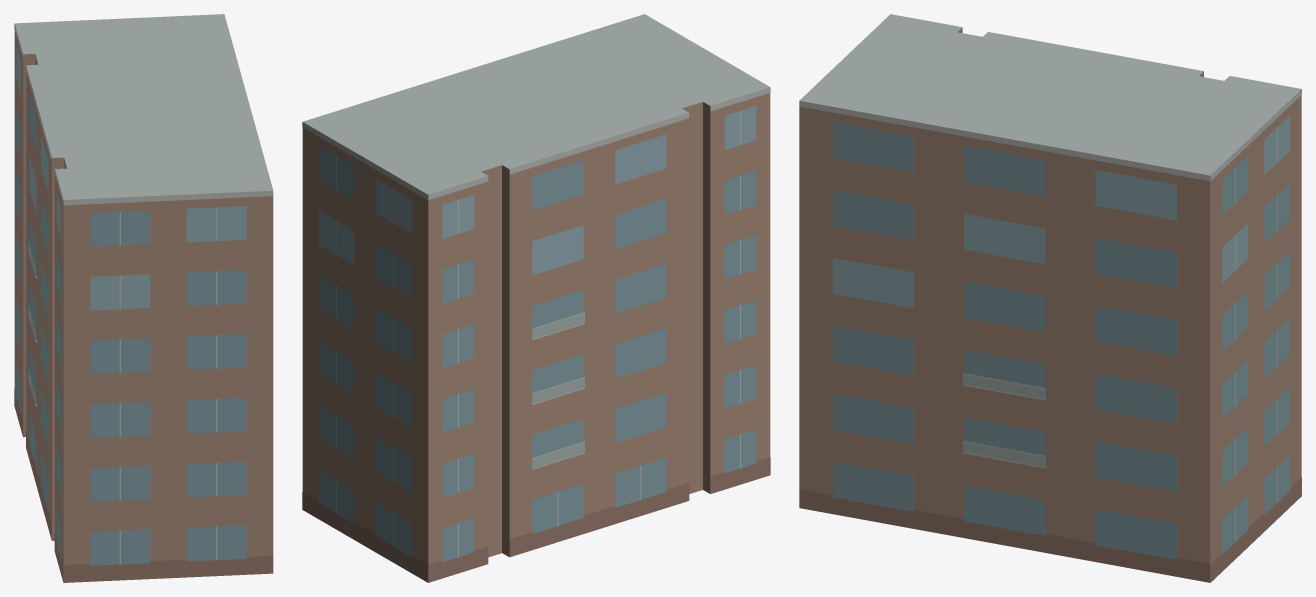
Rendered from survey-upis-32530651.glb.
3 renders of one model, left to right at view 1: azimuth 30°, elevation 25°; view 2: azimuth 150°, elevation 25°; view 3: azimuth 270°, elevation 25°, orthographic. The views are drawn at different scales.
Parts seen in each view (by area): view 1: survey-upis-32530651.tmp; view 2: survey-upis-32530651.tmp; view 3: survey-upis-32530651.tmp.
Boxes of the visible parts, box(x1,y1,x2,y2) form: survey-upis-32530651.tmp: box(14, 14, 273, 582); survey-upis-32530651.tmp: box(302, 14, 770, 582); survey-upis-32530651.tmp: box(799, 14, 1301, 582).
Size of the model in its own units: 14.65 by 17.2 by 19.24.
